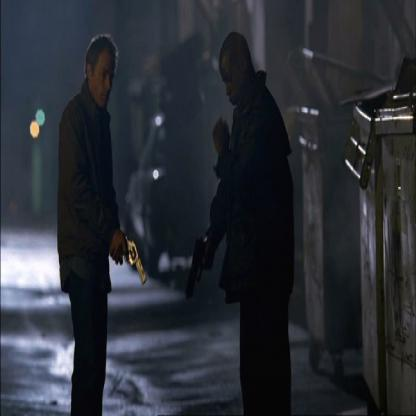Gun: (182, 234, 212, 298), (120, 229, 148, 287)
